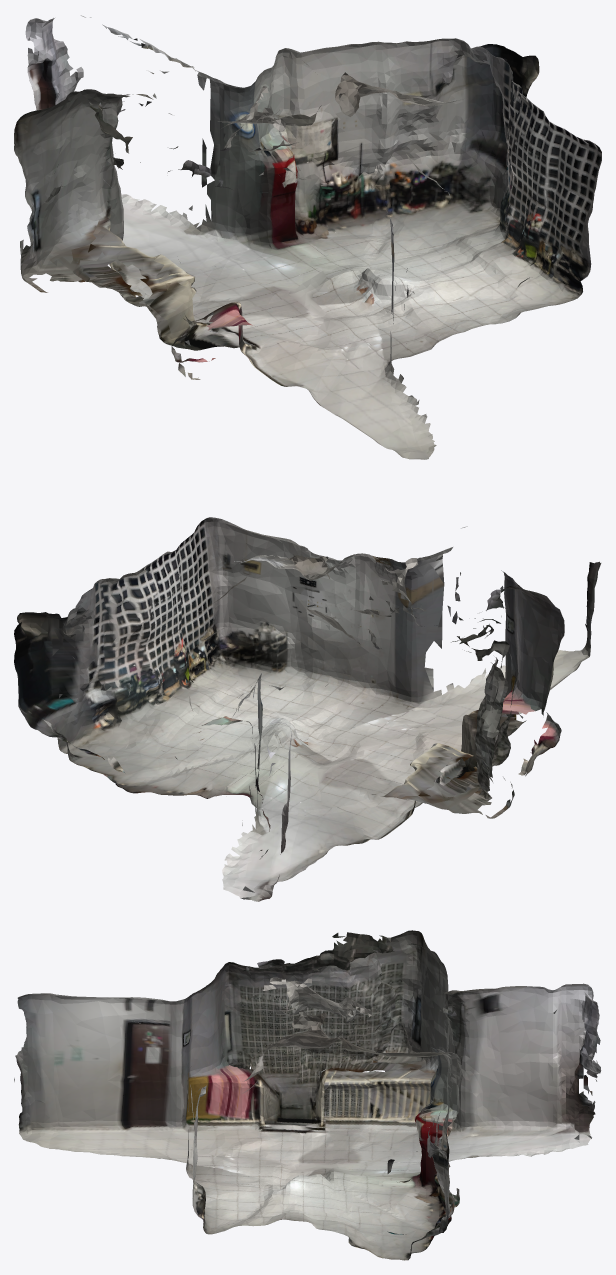
The model's file is scan_lobby_lantai 3_putra.glb.
3 renders of one model, top to bottom at view 1: azimuth 30°, elevation 25°; view 2: azimuth 150°, elevation 25°; view 3: azimuth 270°, elevation 25°, orthographic. The views are drawn at different scales.
Parts seen in each view (by area): view 1: mesh; view 2: mesh; view 3: mesh.
Boxes of the visible parts, box(x1,y1,x2,y2) form: mesh: box(14, 15, 601, 459); mesh: box(14, 517, 601, 901); mesh: box(14, 930, 601, 1260).
Size of the model in its own units: 8.6 by 3.54 by 10.75.
Materials: 1 (1 with a texture image).
